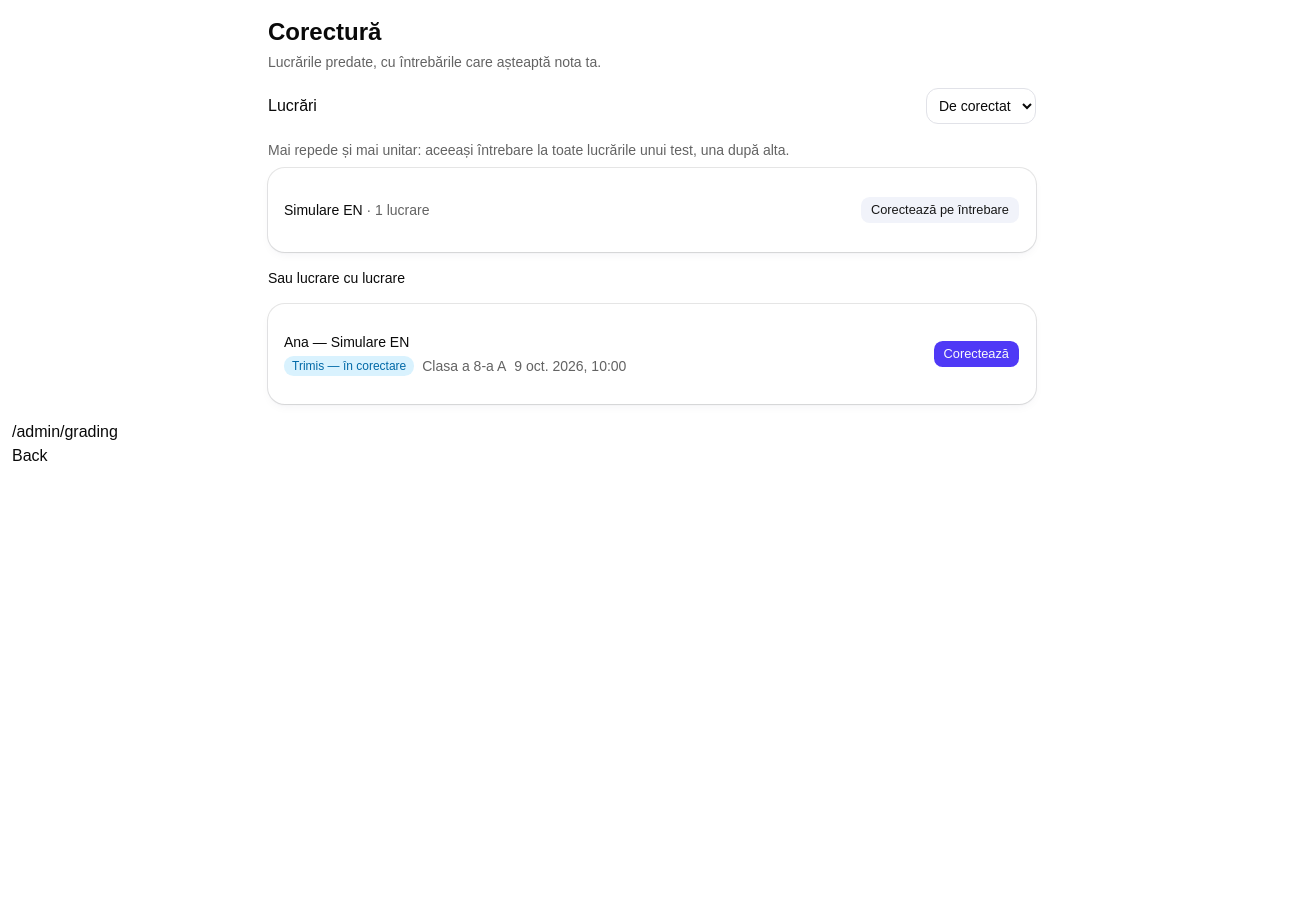
it: AdminGradingPage › „De ce e greșit” from the paper › answers the students who asked, right under the wrong grilă
The image size is (1292, 900).
Click the button with test id "attempt-open": (976, 354) [932, 340, 1020, 368]
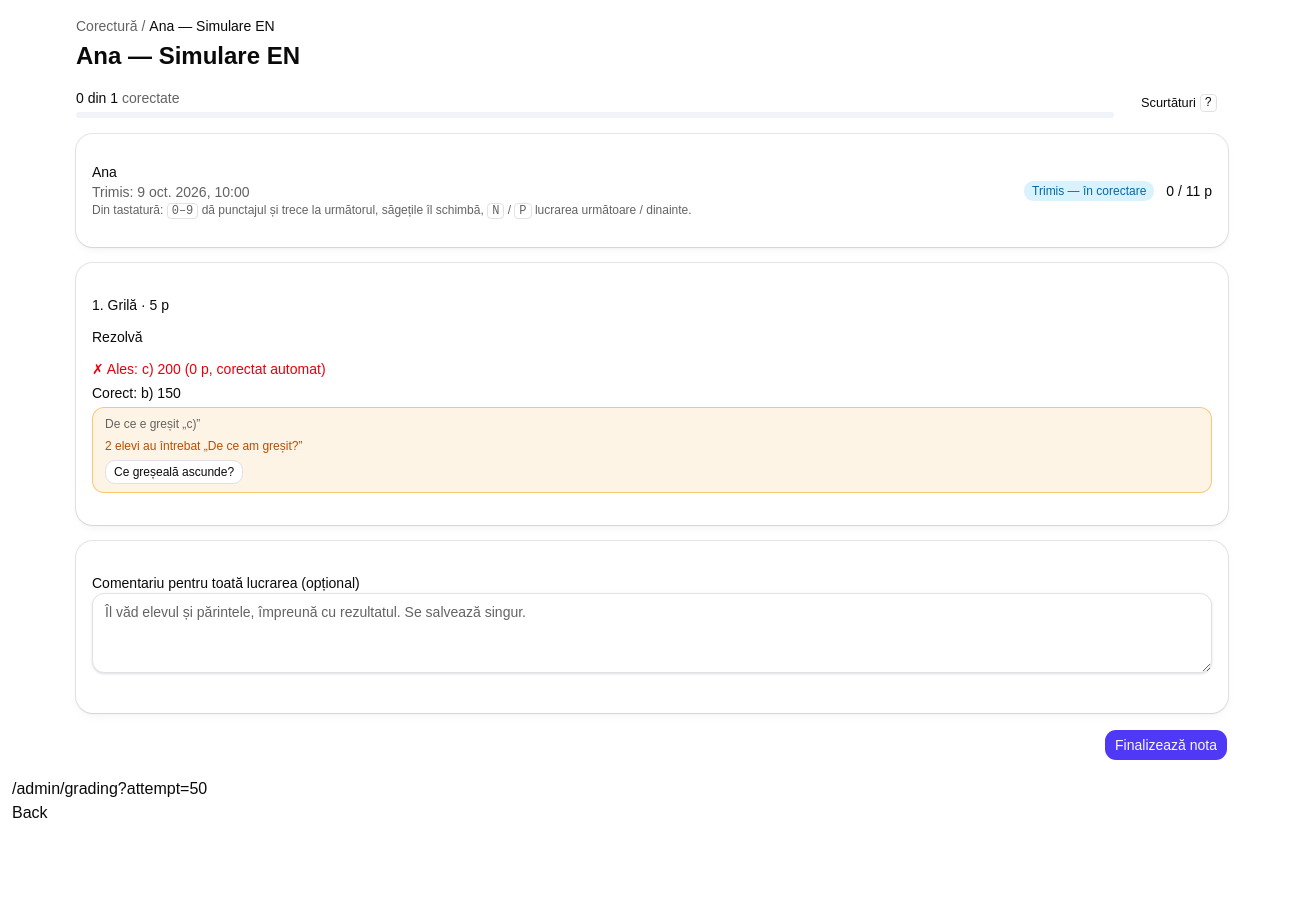
Expected: the text "Rezolvă" is shown, [92, 329, 143, 345]
Expected: the element with test id "grading-mistake-201" shows "De ce e greșit „c)”", [92, 407, 1212, 493]
Expected: the text with test id "option-requests" reads "2 elevi au întrebat „De ce am greșit?”", [105, 439, 302, 453]
Click the button "Ce greșeală ascunde?": (174, 472) [105, 460, 243, 484]
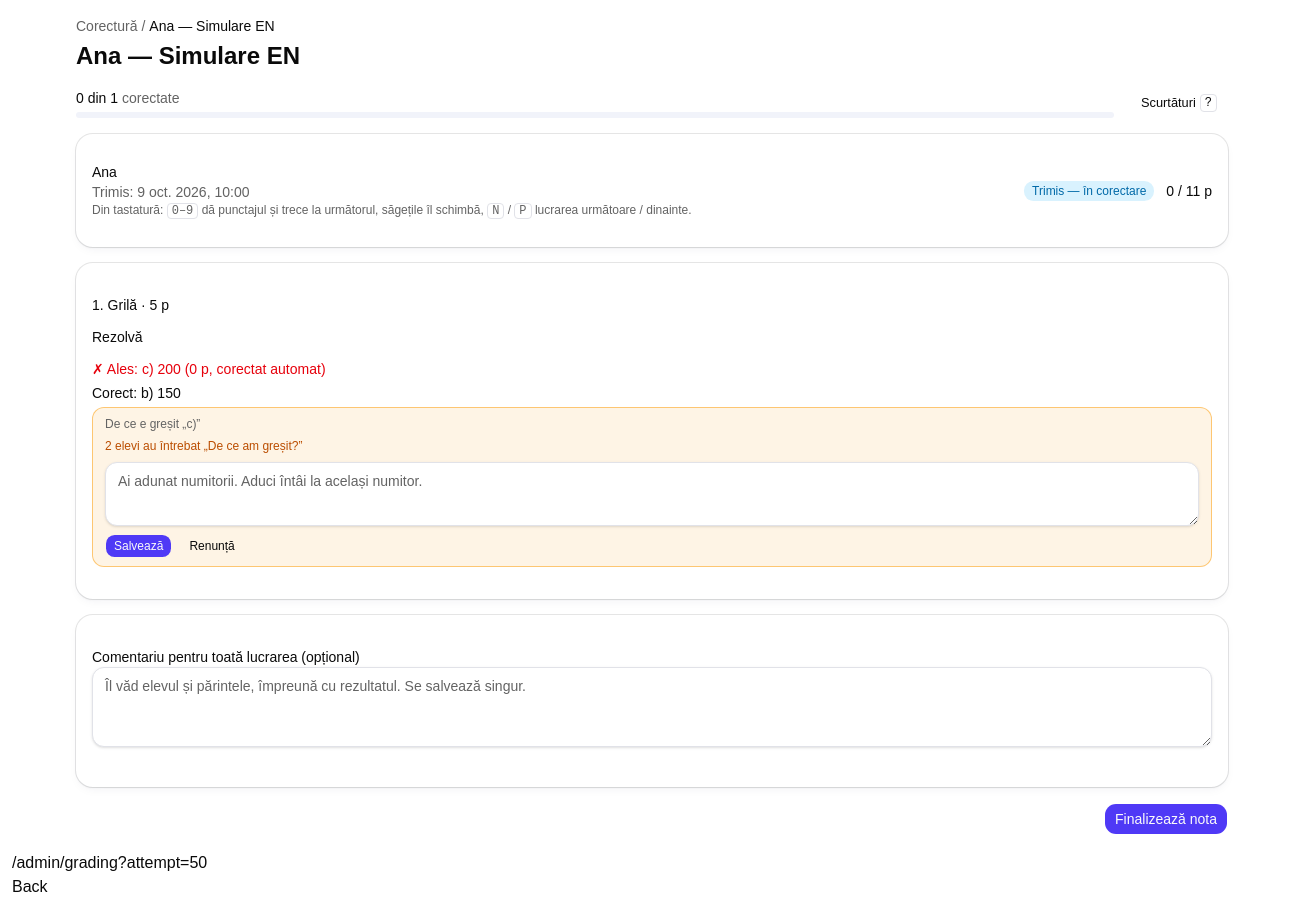
In the text box with placeholder "Ai adunat numitorii. Aduci întâi la același numitor.": (652, 494) [105, 462, 1199, 526], type "Ai luat 10% din 2000."
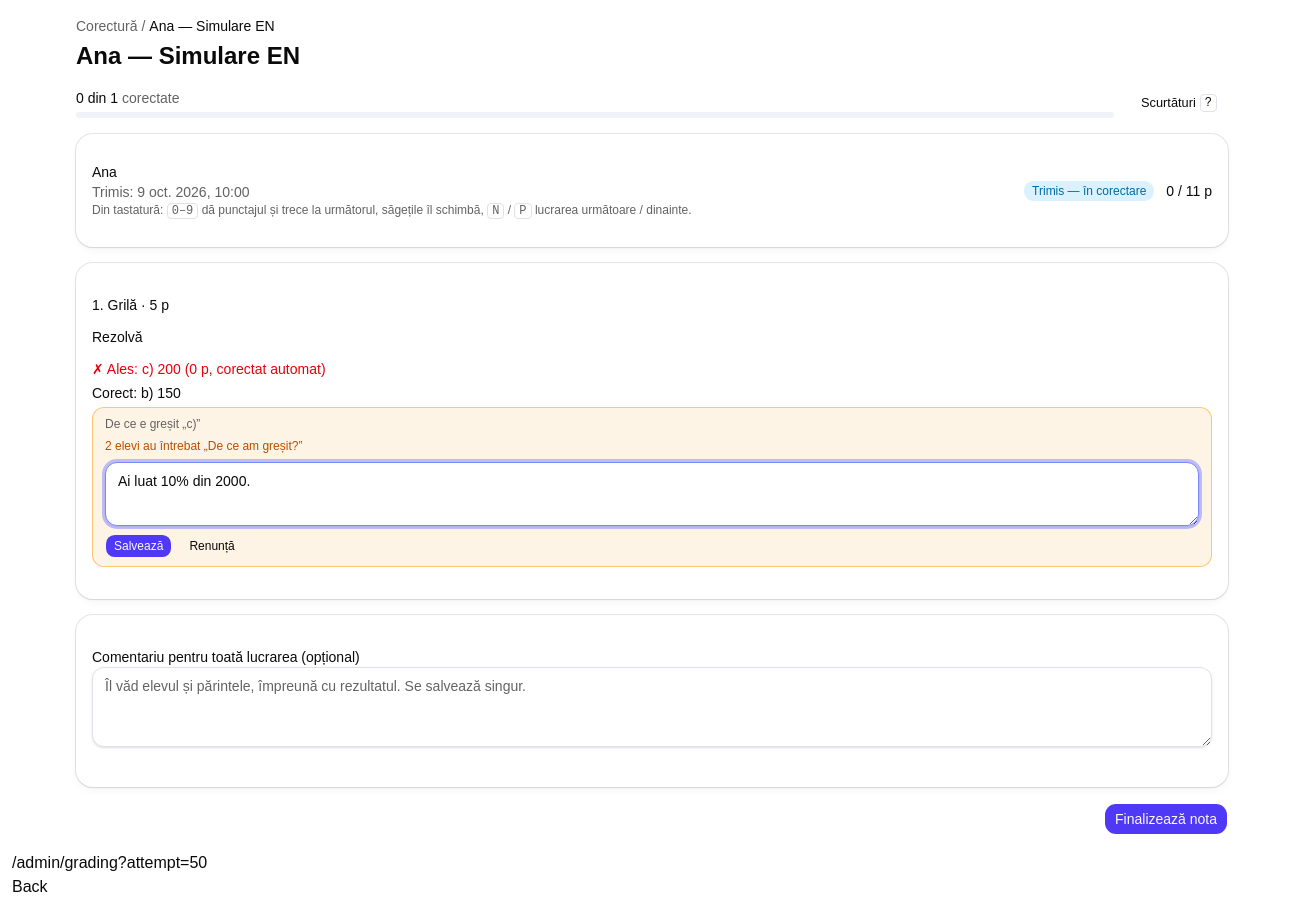
Click the button "Salvează": (139, 546) [105, 534, 172, 558]
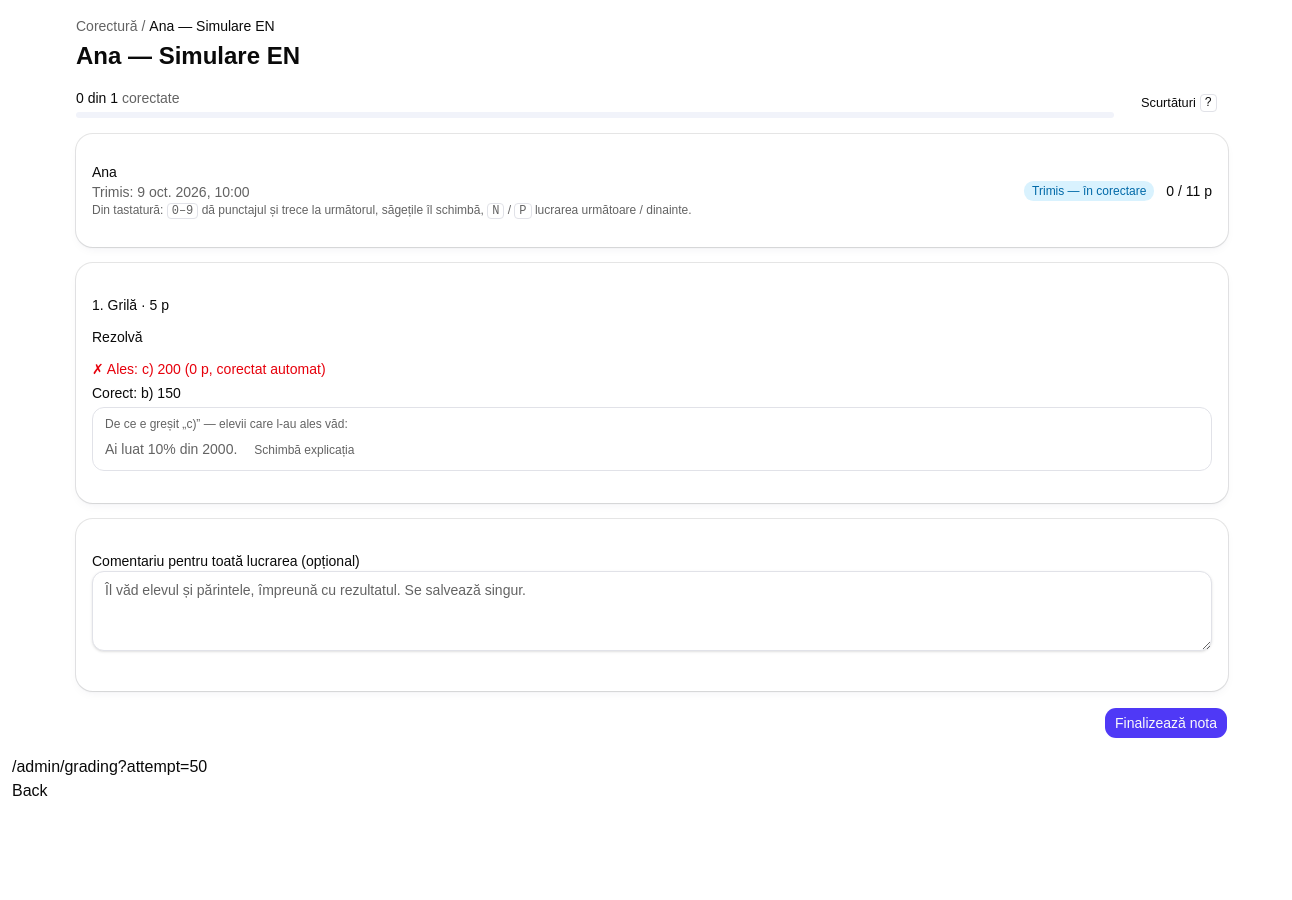
Expected: the element with test id "grading-mistake-201" shows "elevii care l-au ales văd:", [200, 417, 348, 431]
Expected: the element with test id "grading-mistake-201" shows "Ai luat 10% din 2000.", [105, 441, 237, 457]
Expected: the text with test id "option-requests" is gone
